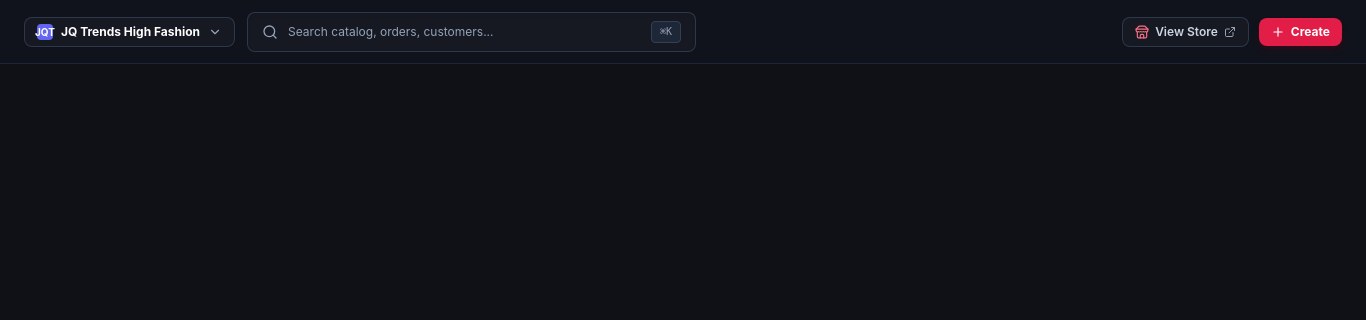
Test: AdminHeader Component Unit Tests › should toggle store switcher dropdown when clicked
Expected: the text "JQ Trends High Fashion" is shown, [61,24,200,40]
Click the button "JQT JQ Trends High Fashion".
click(130, 32)  # box [24,16,235,46]
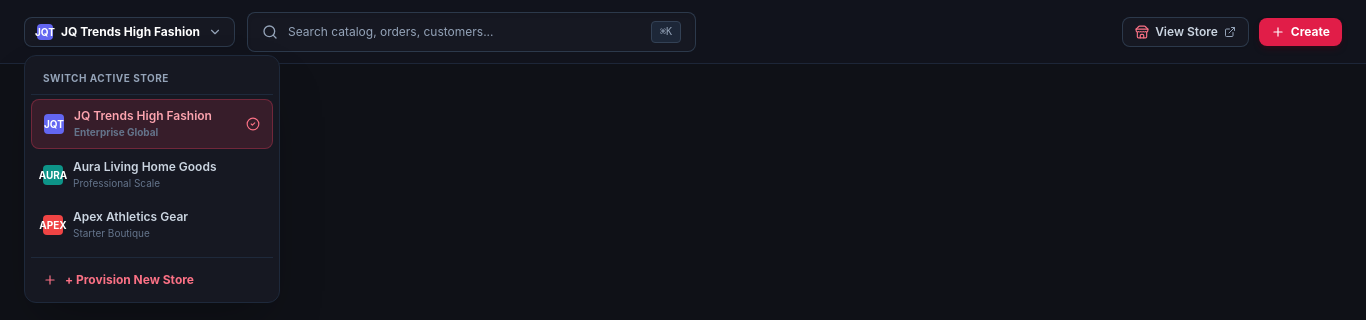
Expected: the text "Switch Active Store" is shown, [31,62,273,94]
Expected: the text "Aura Living Home Goods" is shown, [73,158,216,174]
